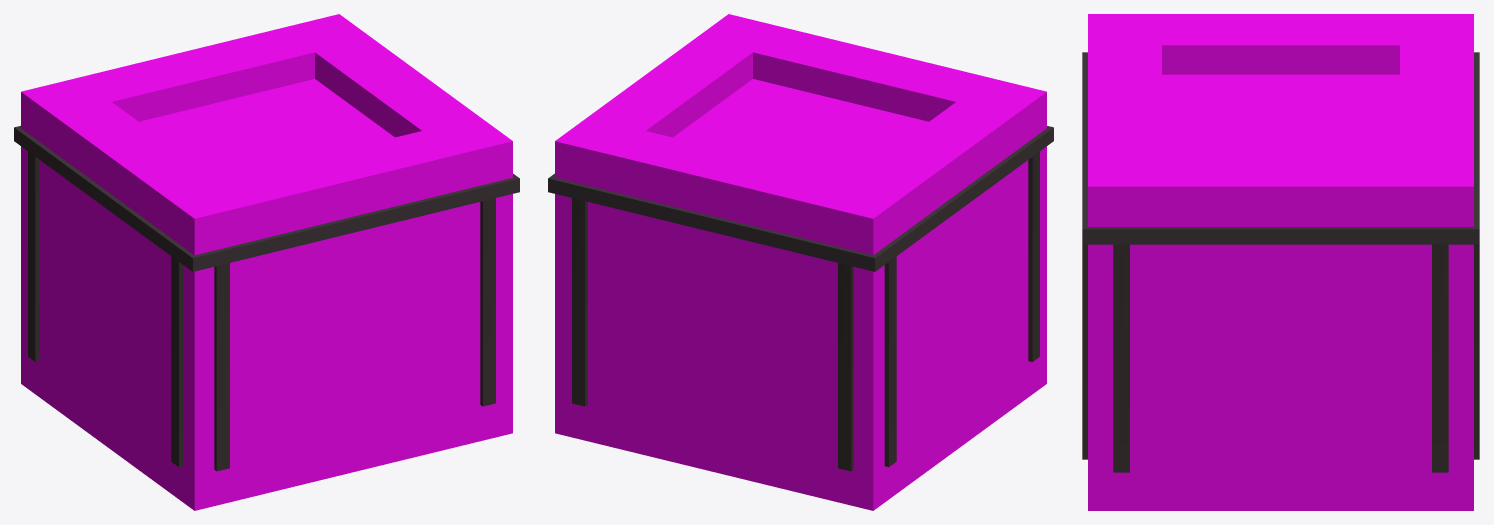
Rendered from interior-takamori-b.glb.
3 views of the same model, side by side, from view 1: azimuth 30°, elevation 25°; view 2: azimuth 150°, elevation 25°; view 3: azimuth 270°, elevation 25° (orthographic). The views are drawn at different scales.
Parts seen in each view (by area): view 1: Col_wall_front, Col_wall_left, Col_ceiling, Col_wall_back, Col_wall_right, Interior takamori-b Plaster; view 2: Col_wall_back, Col_wall_left, Col_ceiling, Col_wall_right, Interior takamori-b Plaster, Col_wall_front; view 3: Col_wall_right, Col_ceiling, Col_wall_front, Col_wall_back, Interior takamori-b Plaster, Col_wall_left.
Part boxes in pixels (<box>): Col_wall_front: <box>161,117,512,509</box>; Col_wall_left: <box>21,100,252,510</box>; Col_ceiling: <box>42,79,512,318</box>; Col_wall_back: <box>21,14,371,407</box>; Col_wall_right: <box>282,14,512,446</box>; Interior takamori-b Plaster: <box>14,126,519,471</box>; Col_wall_back: <box>555,117,905,510</box>; Col_wall_left: <box>815,92,1046,510</box>; Col_ceiling: <box>555,79,1042,318</box>; Col_wall_right: <box>555,25,775,446</box>; Interior takamori-b Plaster: <box>548,126,1053,471</box>; Col_wall_front: <box>696,14,1046,121</box>; Col_wall_right: <box>1088,155,1473,510</box>; Col_ceiling: <box>1088,74,1473,296</box>; Col_wall_front: <box>1088,14,1161,510</box>; Col_wall_back: <box>1400,14,1473,510</box>; Interior takamori-b Plaster: <box>1082,52,1479,472</box>; Col_wall_left: <box>1088,14,1473,74</box>.
Bounding box in the file's own units: 7.5 × 6.4 × 7.1.
